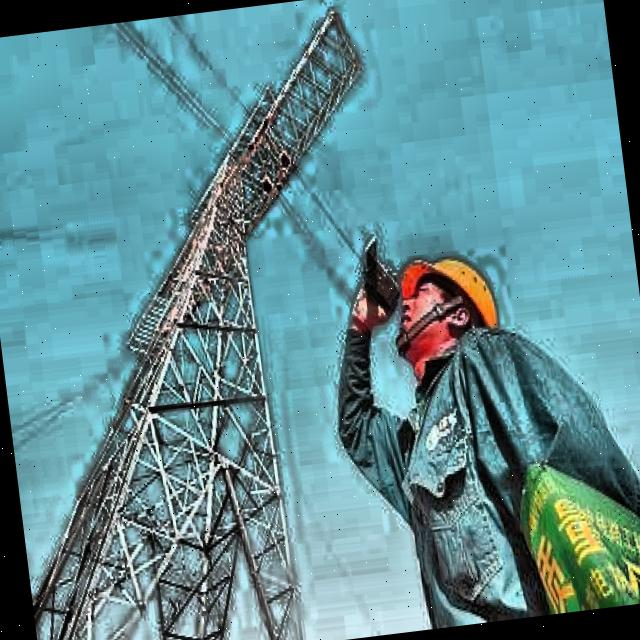helmet: (386, 243, 511, 371)
